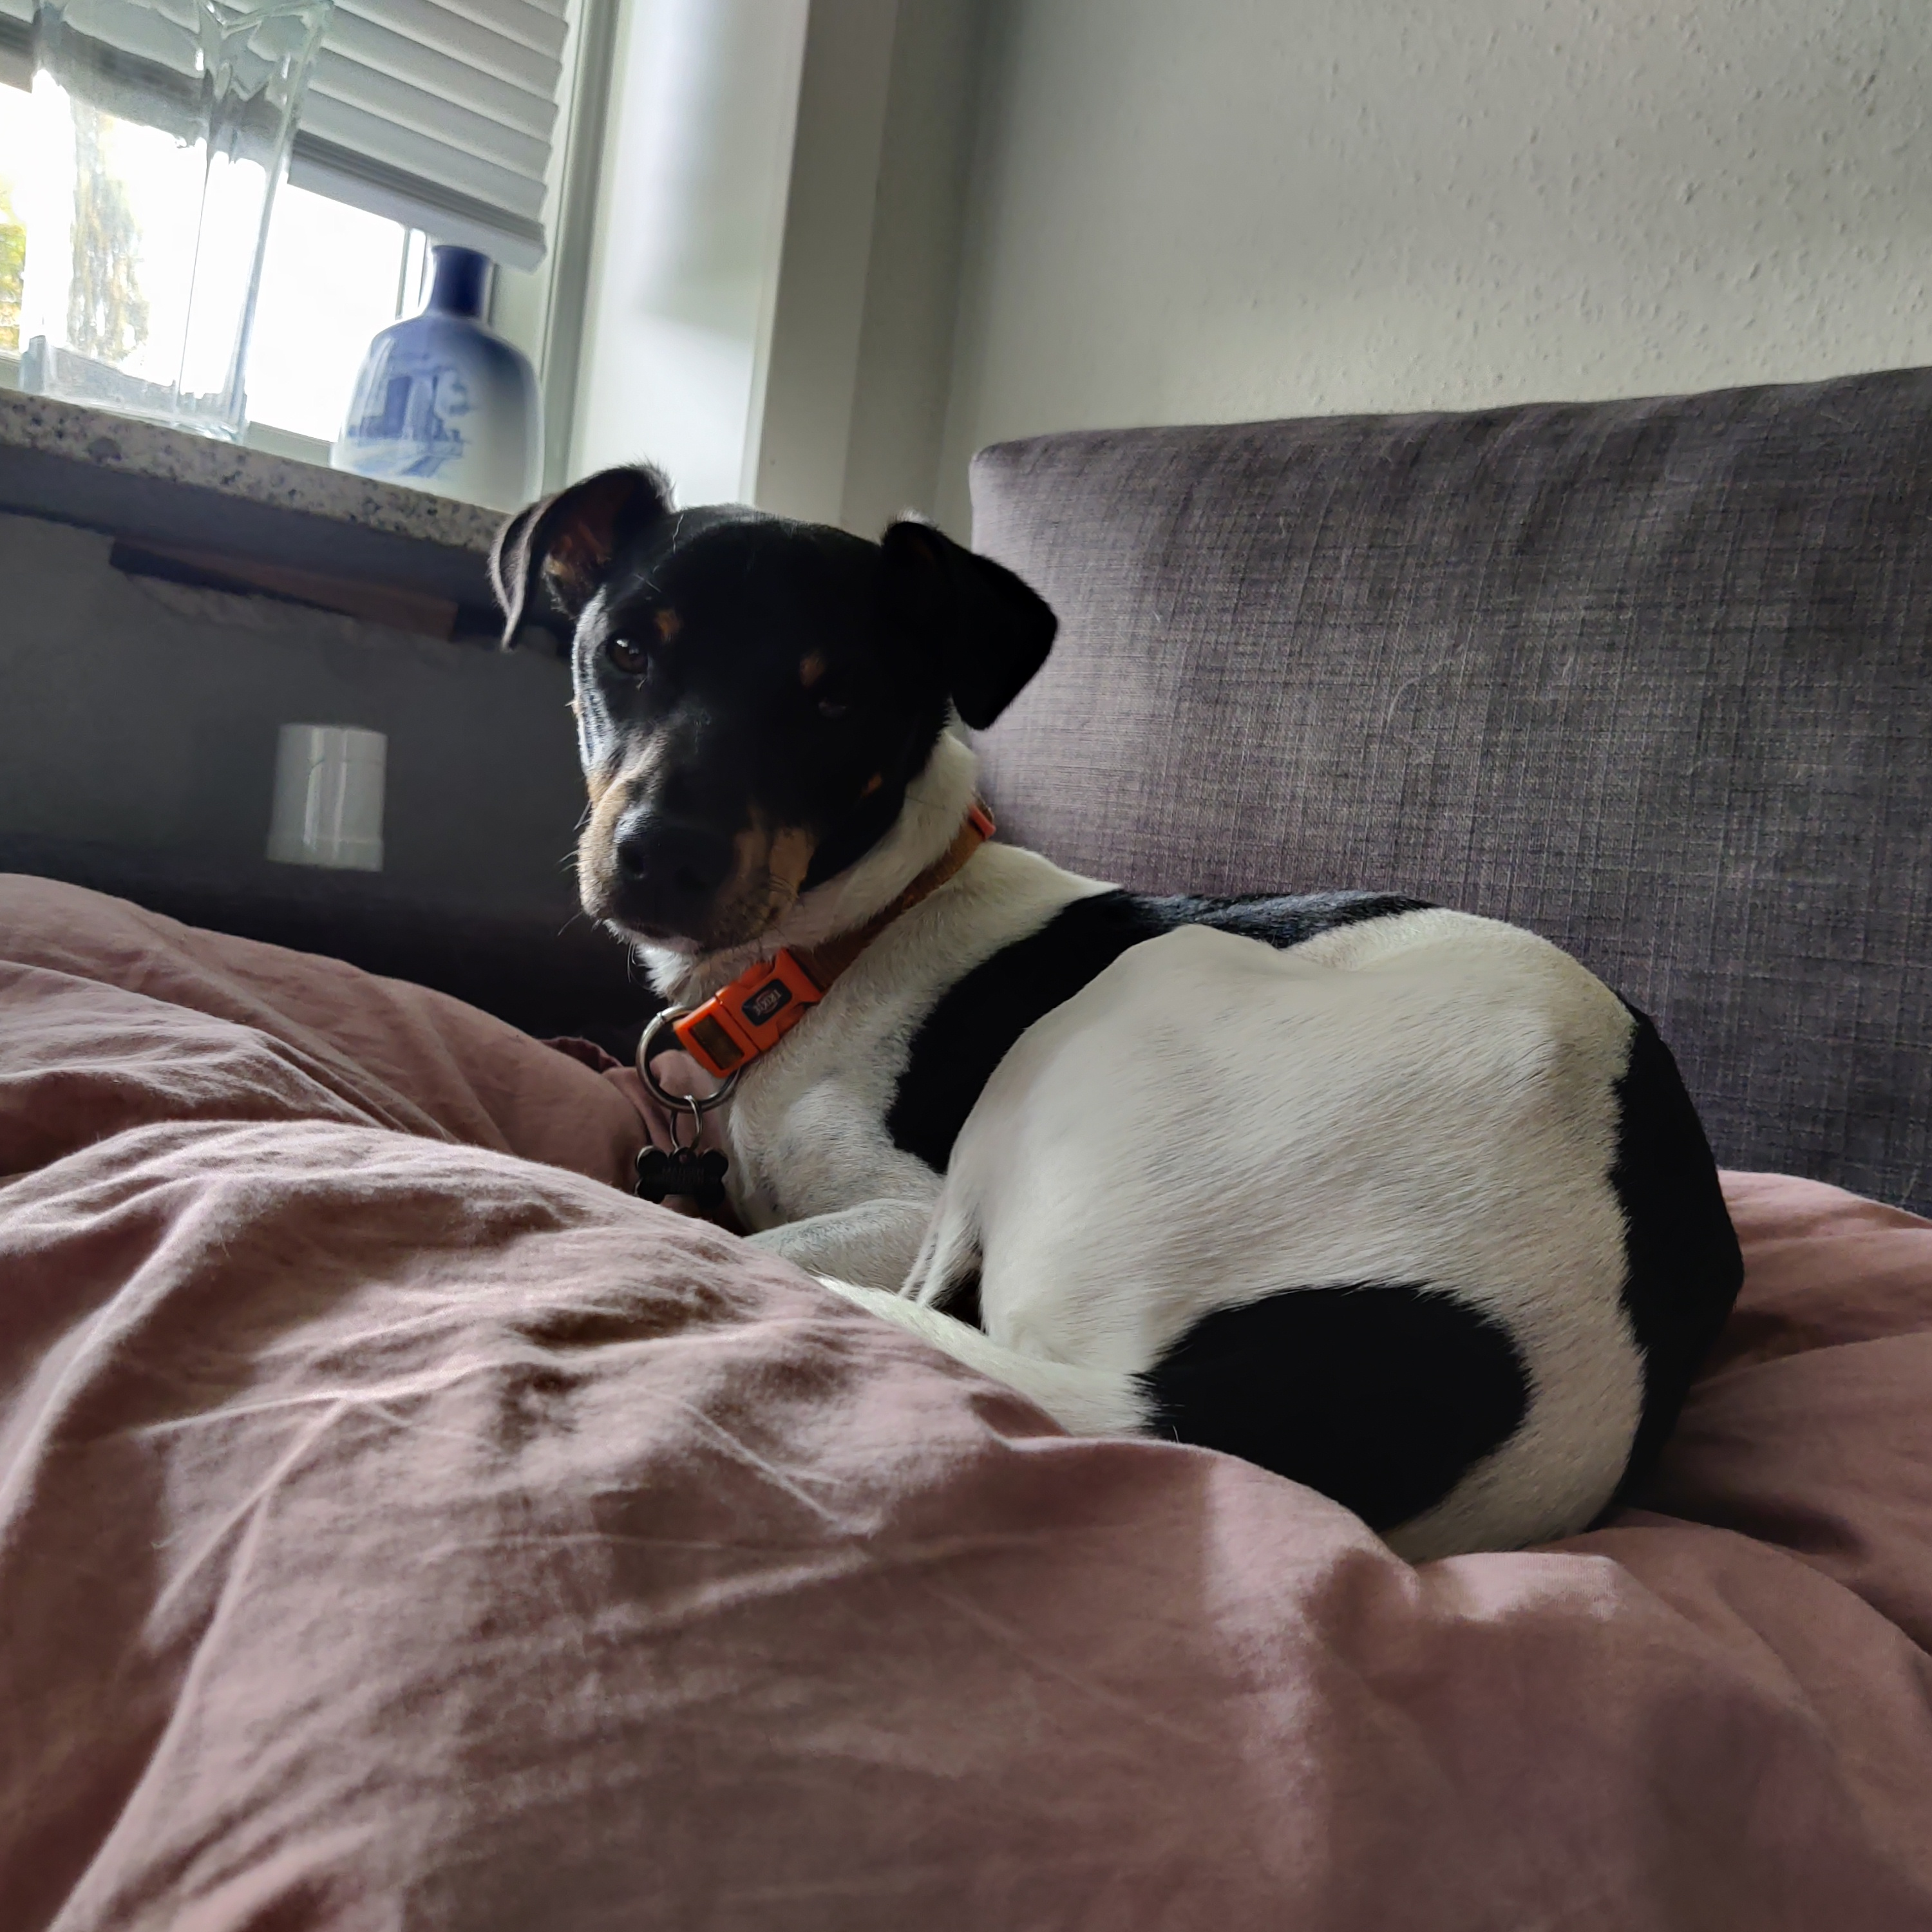Dog: (474, 455, 1746, 1557)
